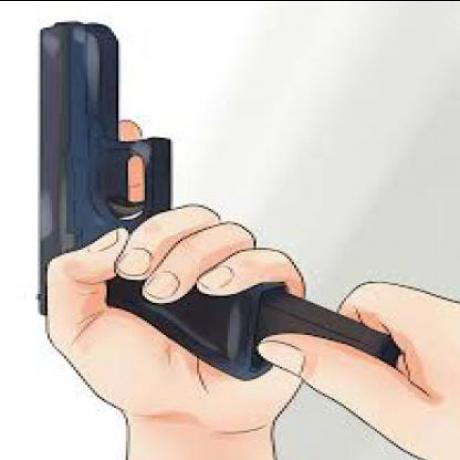1: (45, 205, 304, 460)
weapon: (15, 14, 410, 387)
